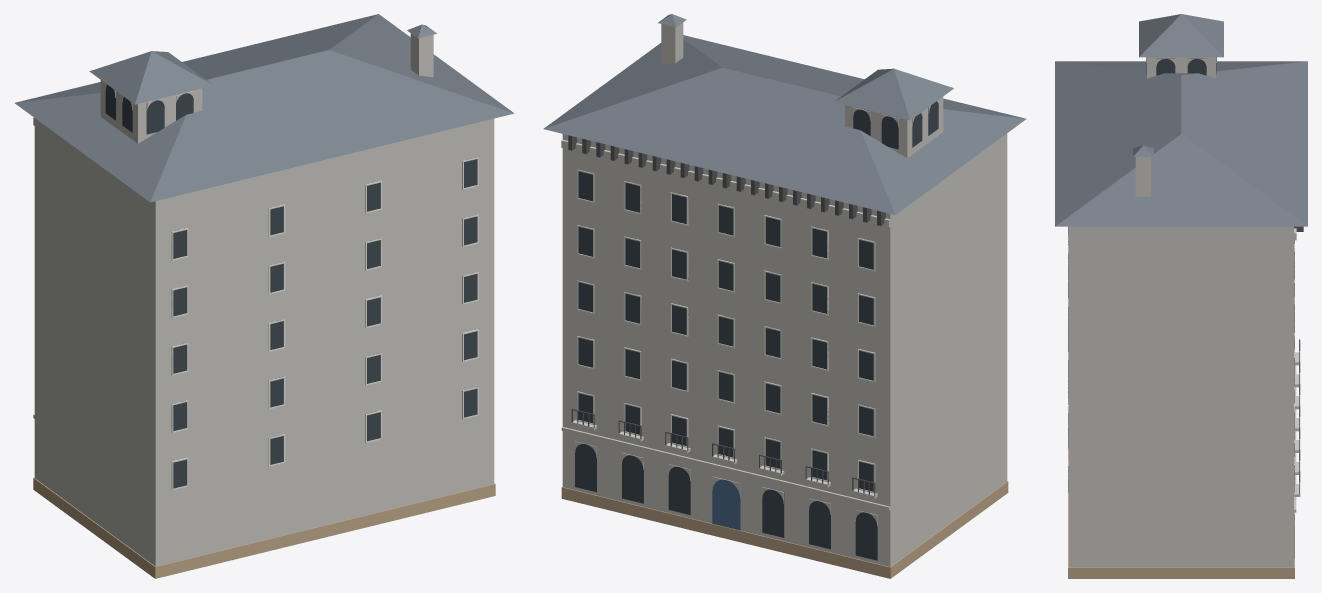
File: ca_classical6.glb
3 renders of one model, left to right at view 1: azimuth 30°, elevation 25°; view 2: azimuth 150°, elevation 25°; view 3: azimuth 270°, elevation 25°, orthographic. The views are drawn at different scales.
Visible parts, largest first — view 1: ca_classical6; view 2: ca_classical6; view 3: ca_classical6.
Boxes of the visible parts, x1,y1,x2,y2 form: ca_classical6: (15, 14, 514, 578); ca_classical6: (543, 14, 1026, 578); ca_classical6: (1055, 14, 1307, 578).
Size of the model in its own units: 22.6 by 27.8 by 14.6.
